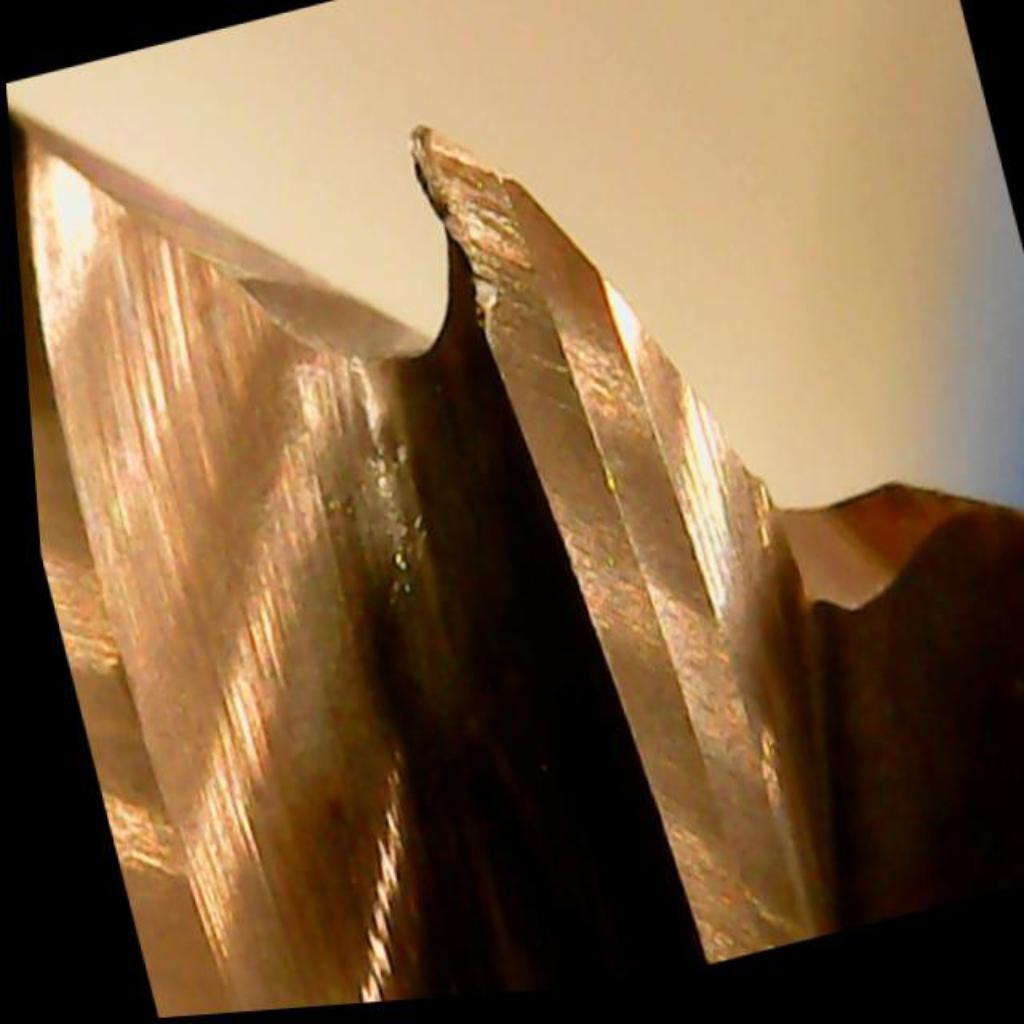Tool-wear-class-2: (376, 69, 689, 598)
